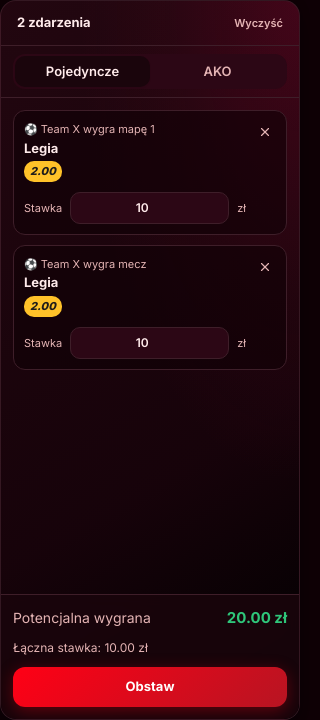
Test: CouponDrawer › blocks AKO submission when selected bets have an exclusion pair
The image size is (320, 720).
What coordinates should you click on to do the following:
click the button "AKO"
I would click on:
 (218, 71)
Its box is [150, 56, 285, 87].
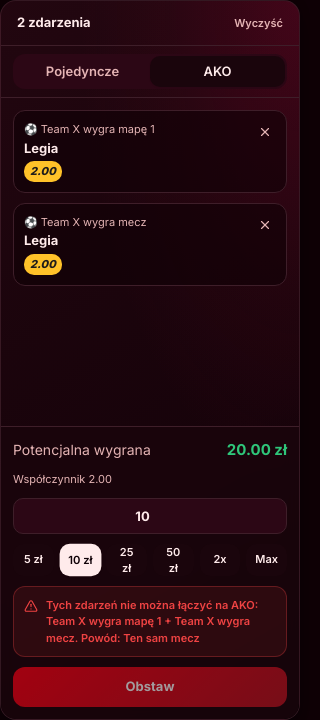
Now the text "Powód: Ten sam mecz" is shown, box [46, 598, 258, 644]
Now the button "Obstaw" is disabled, box [13, 667, 287, 707]
